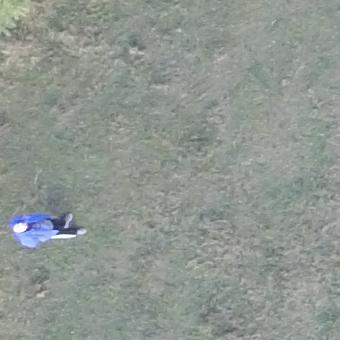human: (11, 208, 86, 251)
